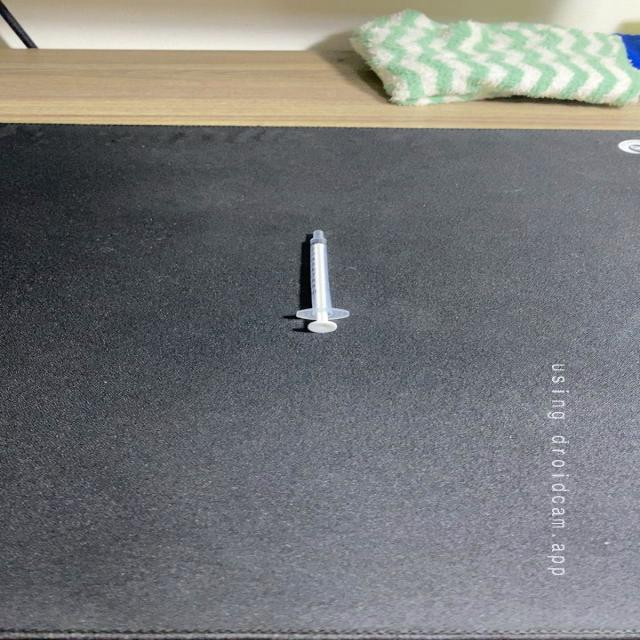syringe: (293, 223, 353, 335)
